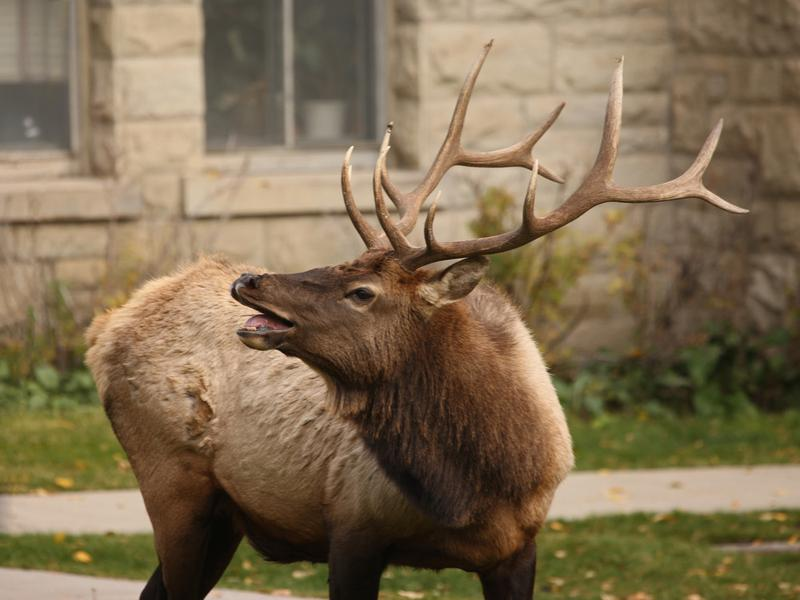elk: (101, 136, 604, 600)
